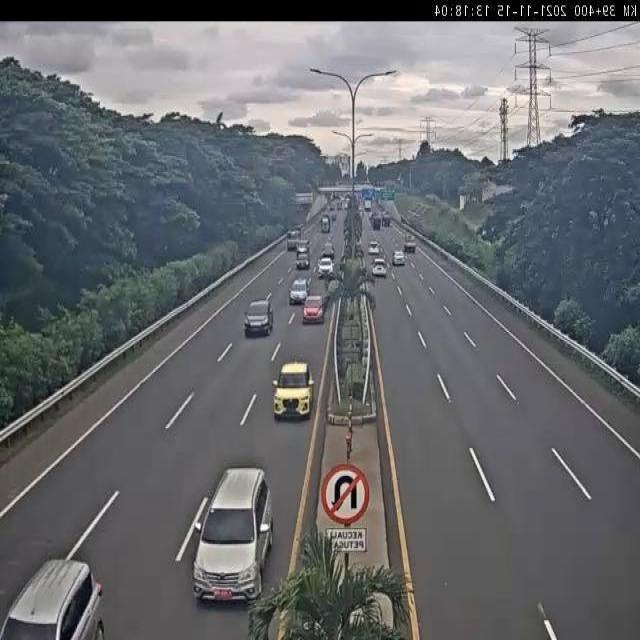Car: (191, 466, 272, 602), (1, 557, 106, 638), (273, 362, 317, 417), (244, 295, 275, 336), (302, 294, 326, 324), (289, 278, 310, 304), (318, 257, 334, 278), (286, 231, 300, 251), (372, 260, 387, 277), (296, 251, 310, 269), (392, 250, 406, 266), (404, 236, 416, 253), (368, 240, 379, 255)
